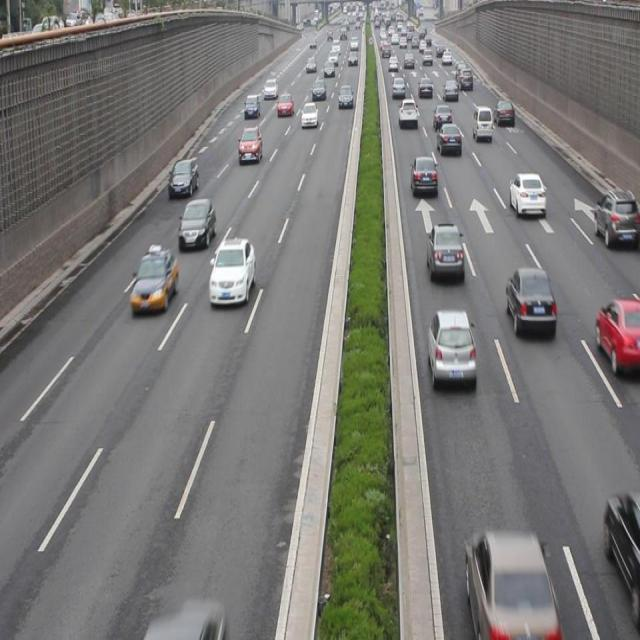car: (466, 526, 557, 640), (603, 491, 640, 606), (426, 307, 475, 389), (505, 266, 554, 337), (594, 297, 640, 371), (208, 237, 256, 306), (130, 250, 178, 314), (591, 187, 640, 246), (426, 219, 462, 286), (177, 199, 216, 250), (508, 171, 544, 219), (169, 156, 198, 198), (410, 155, 437, 198), (238, 124, 262, 165), (436, 121, 461, 156), (432, 102, 453, 134), (494, 97, 514, 127), (300, 101, 318, 129)
truck: (472, 106, 493, 141)
